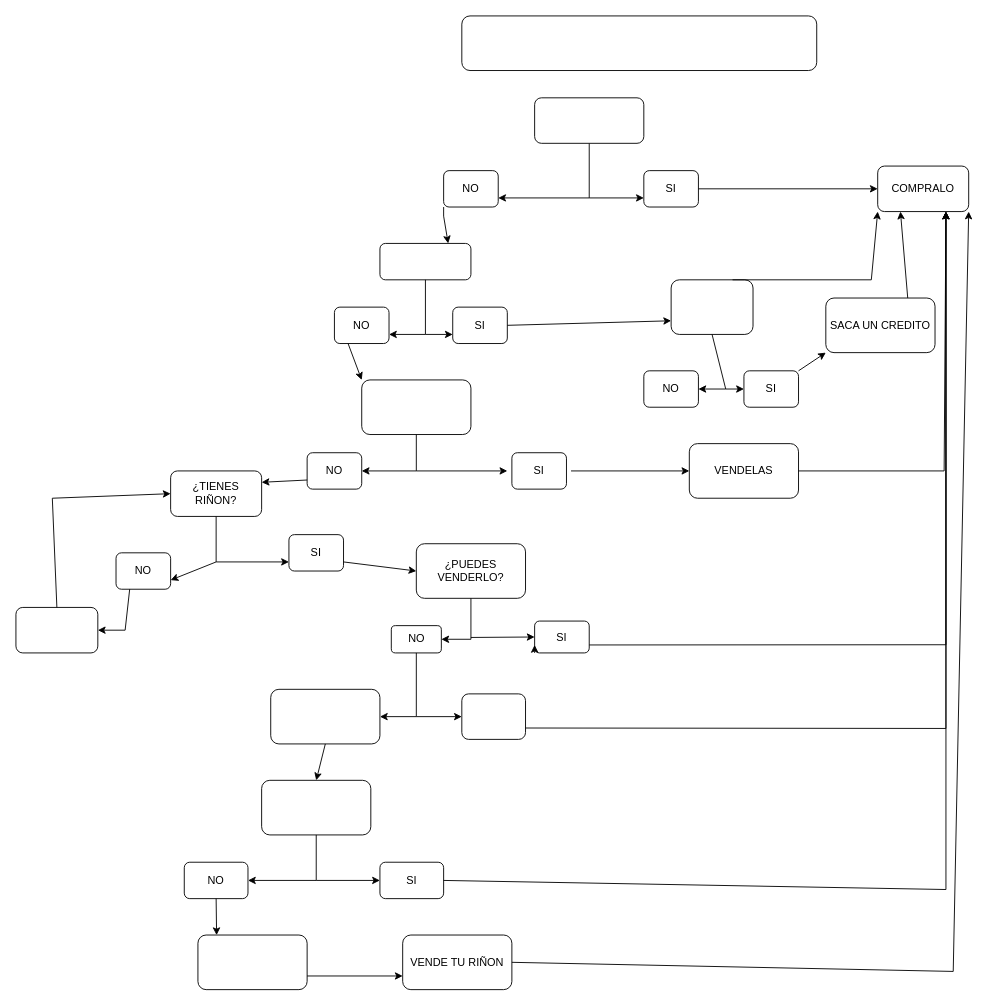
The diagram is 992 pixels wide and 1006 high, and some of its shapes have lost their labels. Each missing label, with the centre of its shape:
"AHORRA" goes at pixel 493 716.
"CAMBIA DE PAIS" goes at pixel 252 962.
"COMO COMPRAR UN SUPER DEPORTIVO" goes at pixel 639 43.
"INVIERTE" goes at pixel 325 716.
"MENTIROSO" goes at pixel 56 630.
"¿DIO RESULTADO?" goes at pixel 316 807.
"¿PAGAN BIEN?" goes at pixel 711 306.
"¿TIENES DINERO?" goes at pixel 589 120.
"¿TIENES PROPIEDADES?" goes at pixel 416 407.
"¿TIENES TRABAJO?" goes at pixel 425 261.
